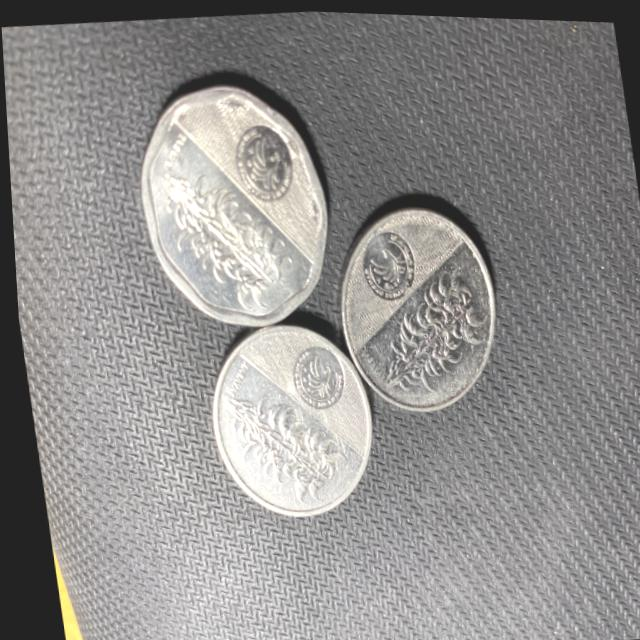5_New_Back: (157, 151, 290, 308), (368, 262, 488, 393), (218, 387, 334, 510)
